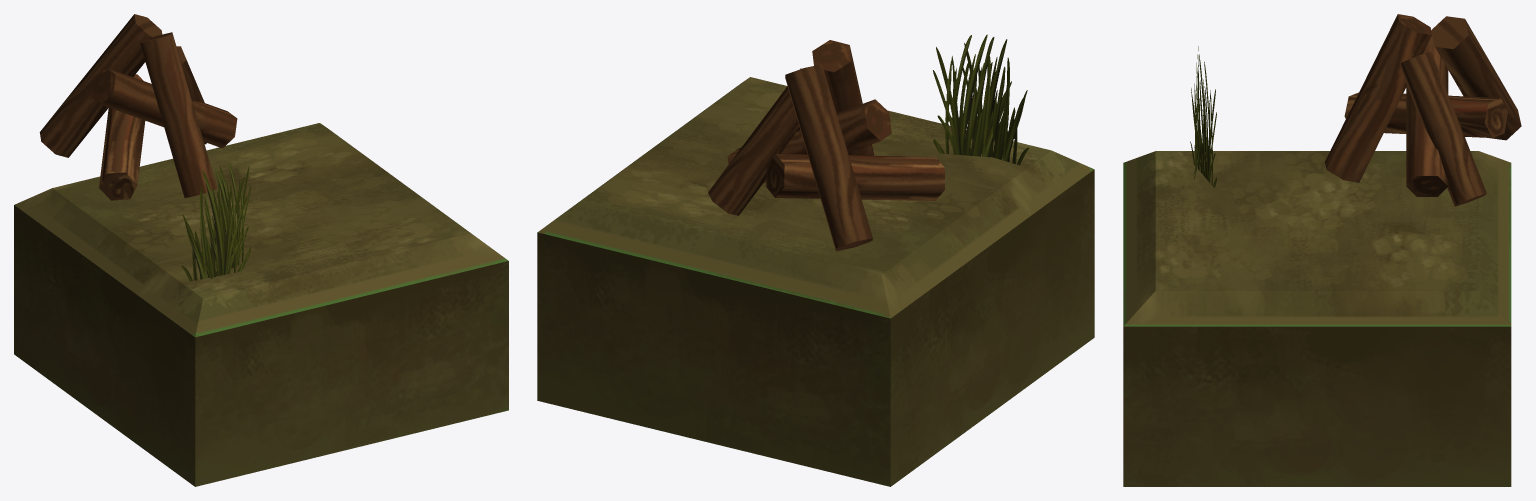
The model's file is tile_final8.FBX.
3 views of the same model, side by side, from view 1: azimuth 30°, elevation 25°; view 2: azimuth 150°, elevation 25°; view 3: azimuth 270°, elevation 25° (orthographic). The views are drawn at different scales.
Visible parts, largest first — view 1: Prefab4; view 2: Prefab4; view 3: Prefab4.
Boxes of the visible parts, x1=… form: Prefab4: x1=14, y1=14, x2=508, y2=486; Prefab4: x1=537, y1=34, x2=1094, y2=486; Prefab4: x1=1123, y1=14, x2=1521, y2=486.
Size of the model in its own units: 24.96 by 25.31 by 25.62.
3 materials, 3 textured.
